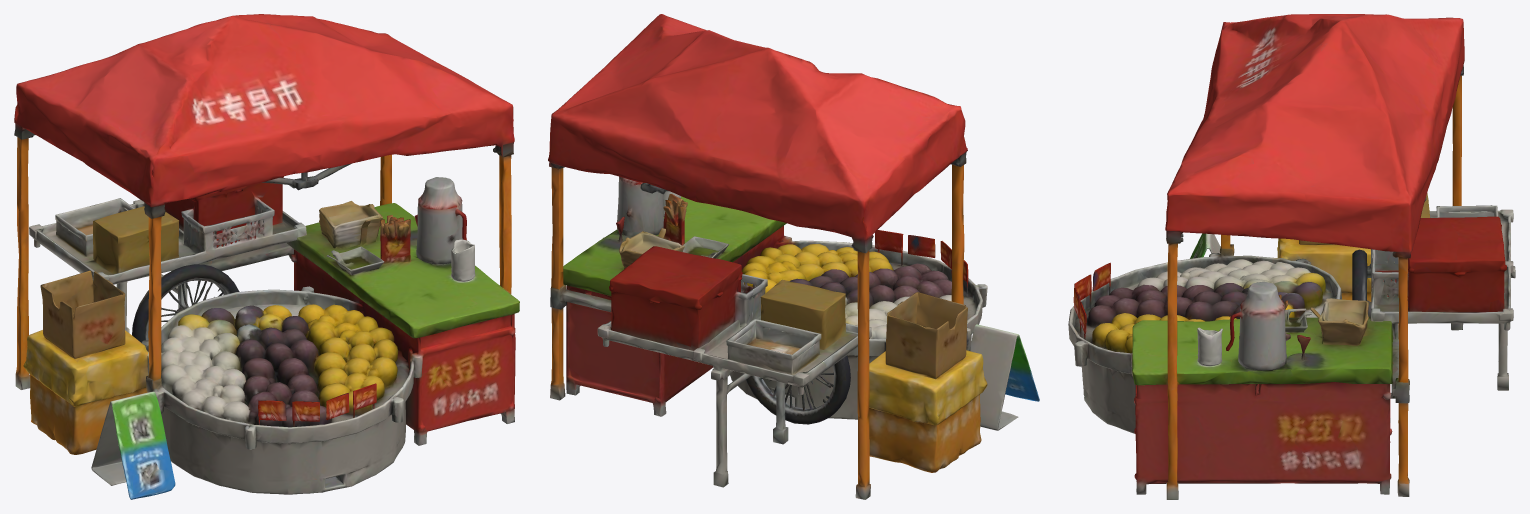
The model's file is tripo_convert_cfeabbf1-2af8-430d-9142-d1007b1cd763.fbx.
The picture shows the model from 3 angles, left to right: view 1: azimuth 30°, elevation 25°; view 2: azimuth 150°, elevation 25°; view 3: azimuth 270°, elevation 25°; orthographic projection. The views are drawn at different scales.
Parts seen in each view (by area): view 1: tripo_node_cfeabbf1; view 2: tripo_node_cfeabbf1; view 3: tripo_node_cfeabbf1.
Boxes of the visible parts, <box> form: tripo_node_cfeabbf1: <box>14,14,519,499</box>; tripo_node_cfeabbf1: <box>548,14,1039,499</box>; tripo_node_cfeabbf1: <box>1068,14,1515,499</box>.
Size of the model in its own units: 1 by 0.9308 by 0.9825.
1 material, 1 textured.
